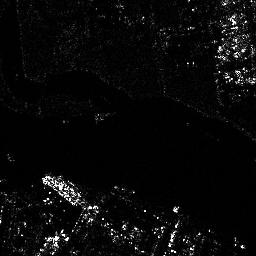ship: (44, 172, 81, 202)
